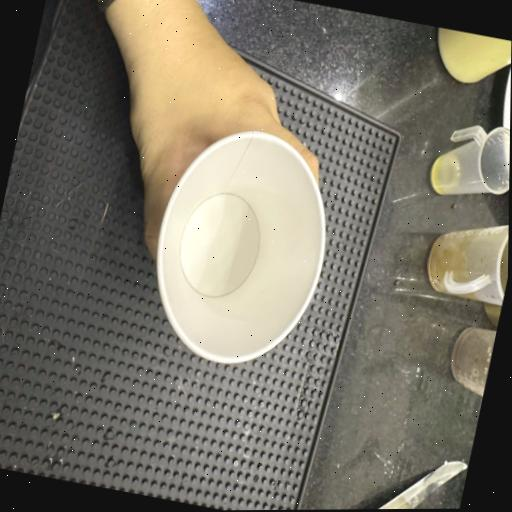Ly_giay: (156, 131, 324, 363)
